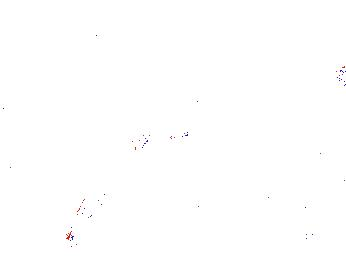X-ray fish: (208, 171, 241, 215)
glassfish: (68, 162, 130, 254), (204, 132, 266, 201)
redtail glassfish: (130, 125, 192, 153)
